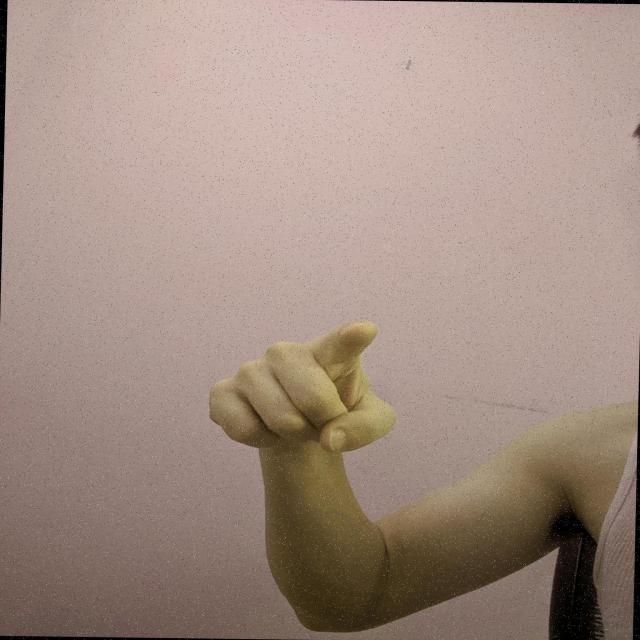Z: (202, 314, 404, 458)
